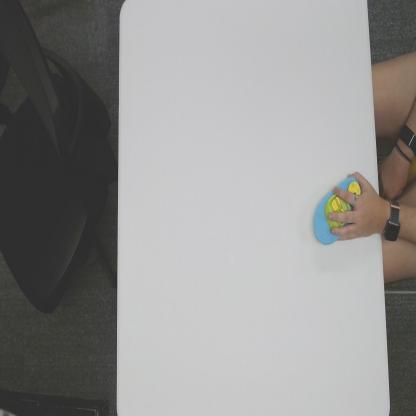Boat: (312, 176, 362, 248)
Hand: (330, 170, 376, 242)
